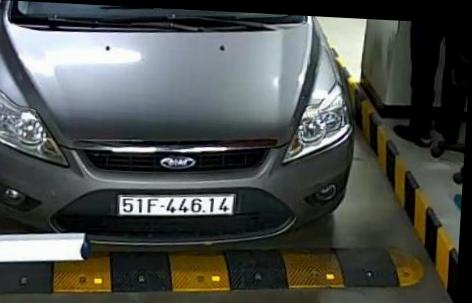License_Plate: (115, 190, 240, 221)
